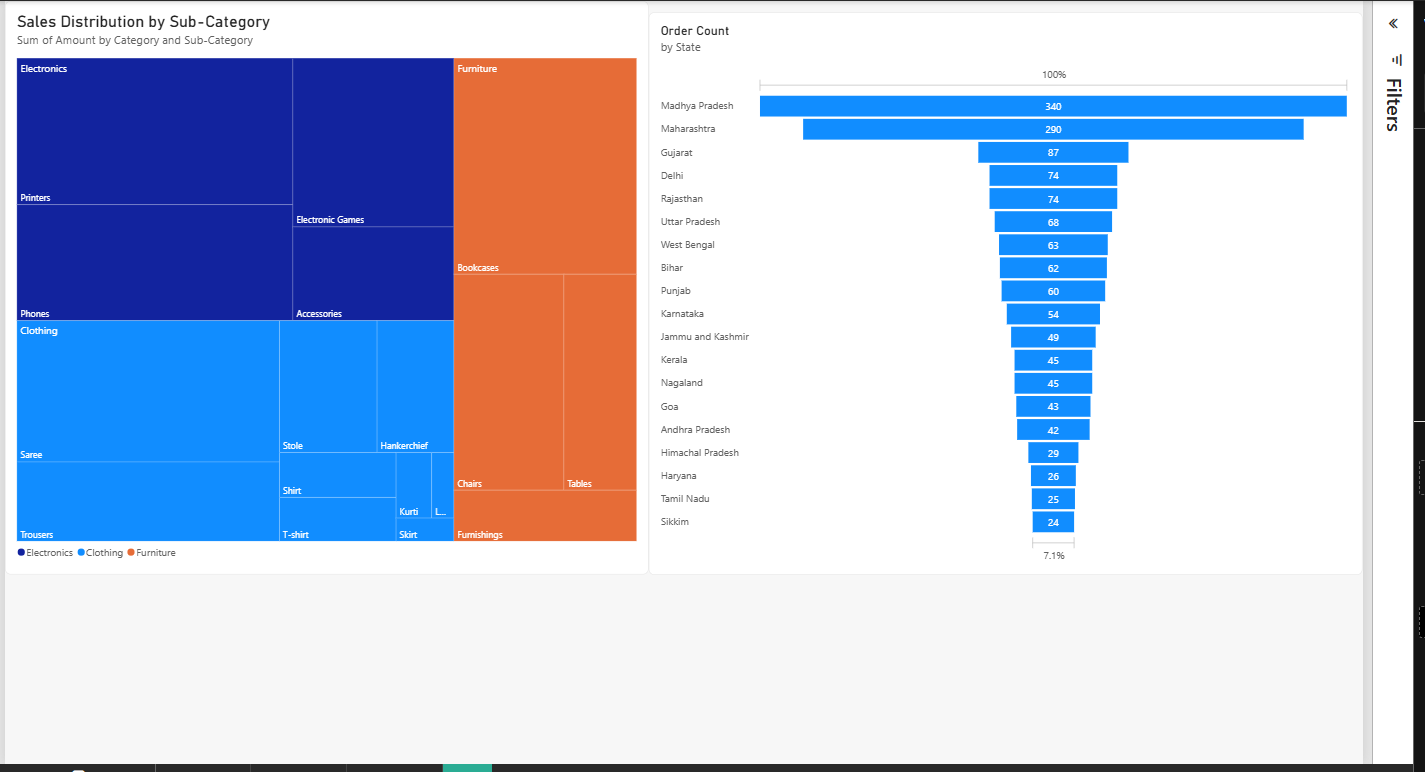

The dashboard page shown, as its layout file describes it:
{"tool":"powerbi","page":{"name":"Page 3","canvas":[1920,1080],"ordinal":2},"visuals":[{"type":"treemap","title":"Sales Distribution by Sub-Category","fields":{"Details":["Order Details (1).Sub-Category"],"Group":["Order Details (1).Category"],"Values":["Sum(Order Details (1).Amount)"]},"box":[0,0,910.6,811.6],"z":0},{"type":"funnel","title":"Order Count Analysis by State","fields":{"Category":["List of Orders (1).State"],"Y":["Order Details (1).Order Count"]},"box":[910.6,15.9,1009.6,795.7],"z":1}]}

Visuals, with their boxes on the page's 1920x1080 design canvas (x1, y1, x2, y2). These are canvas units, not pixel positions in the 1425x772 screenshot, which may show the page scaled, cropped or inside an application window:
"Sales Distribution by Sub-Category" treemap: 0 0 911 812
"Order Count Analysis by State" funnel: 911 16 1920 812
